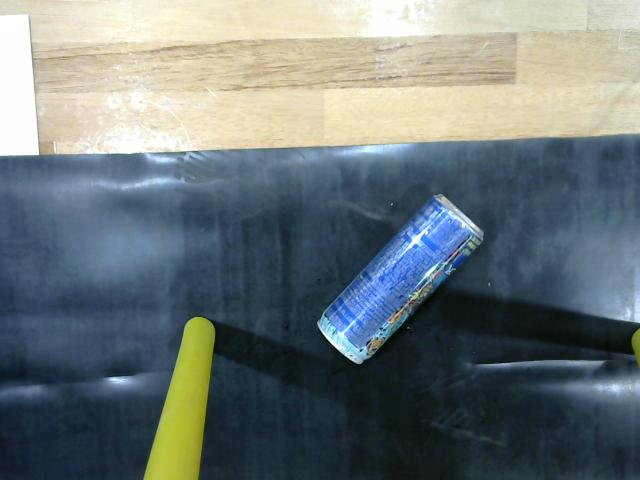can: (310, 188, 490, 368)
